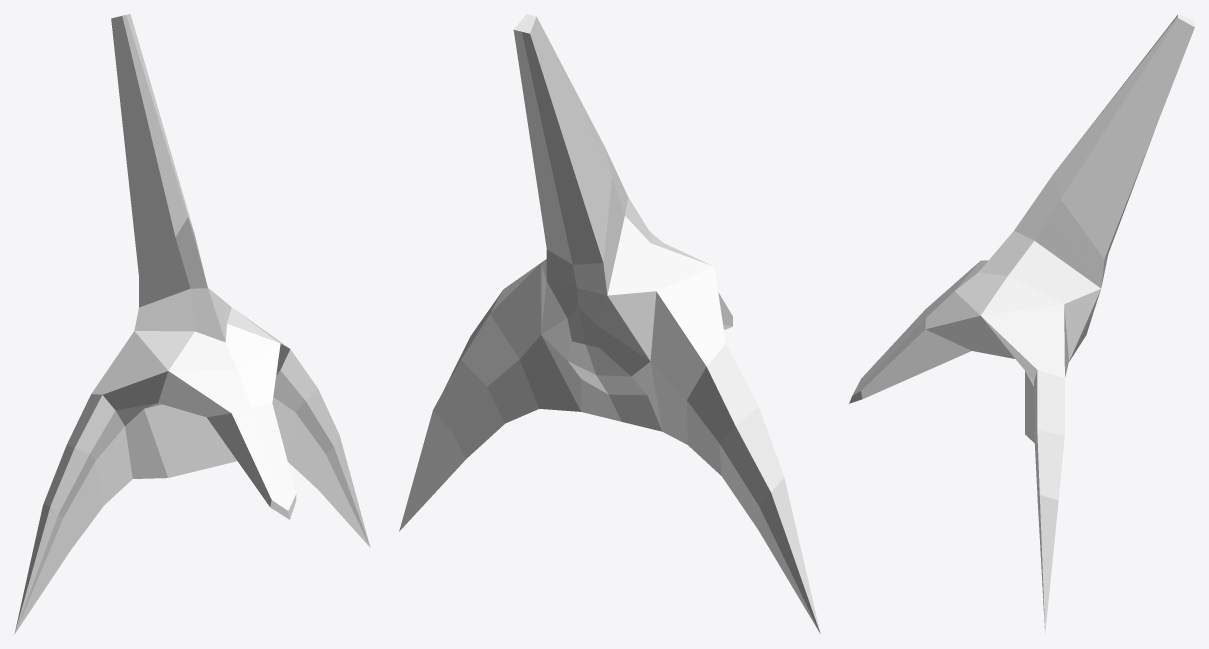
The model's file is head_29.fbx.
The picture shows the model from 3 angles, left to right: view 1: azimuth 30°, elevation 25°; view 2: azimuth 150°, elevation 25°; view 3: azimuth 270°, elevation 25°; orthographic projection. The views are drawn at different scales.
Visible parts, largest first — view 1: Cube.156; view 2: Cube.156; view 3: Cube.156.
Part boxes in pixels (x1=…): Cube.156: x1=14, y1=14, x2=370, y2=634; Cube.156: x1=399, y1=14, x2=820, y2=634; Cube.156: x1=849, y1=14, x2=1194, y2=634.
Bounding box in the file's own units: 90.46 × 128 × 75.61.
